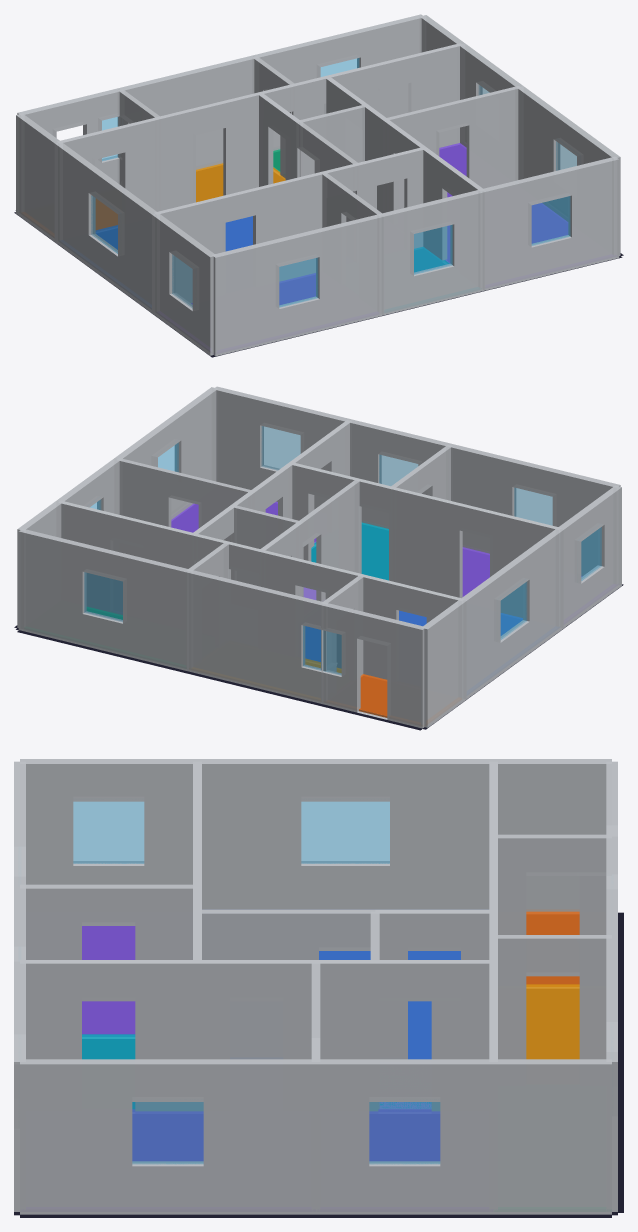
3 views of the same model, one above another, from view 1: azimuth 30°, elevation 25°; view 2: azimuth 150°, elevation 25°; view 3: azimuth 270°, elevation 25° (orthographic). The views are drawn at different scales.
Size of the model in its own units: 12.3 by 2.81 by 10.3.
